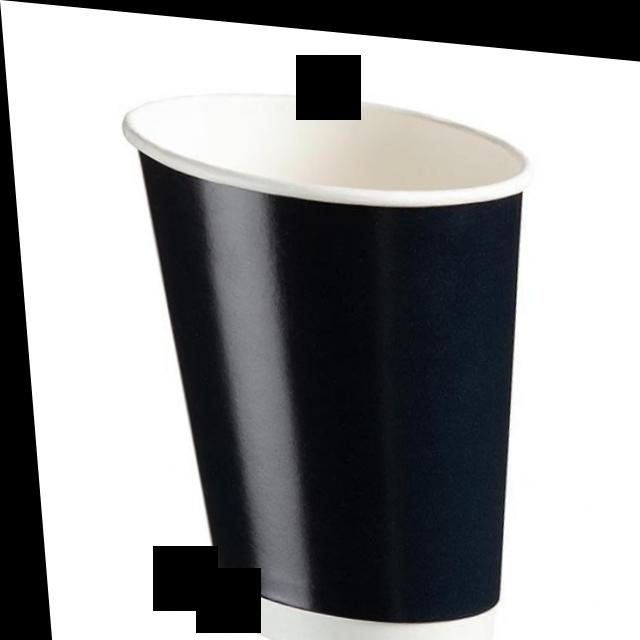karton-bardak: (100, 64, 558, 640)
